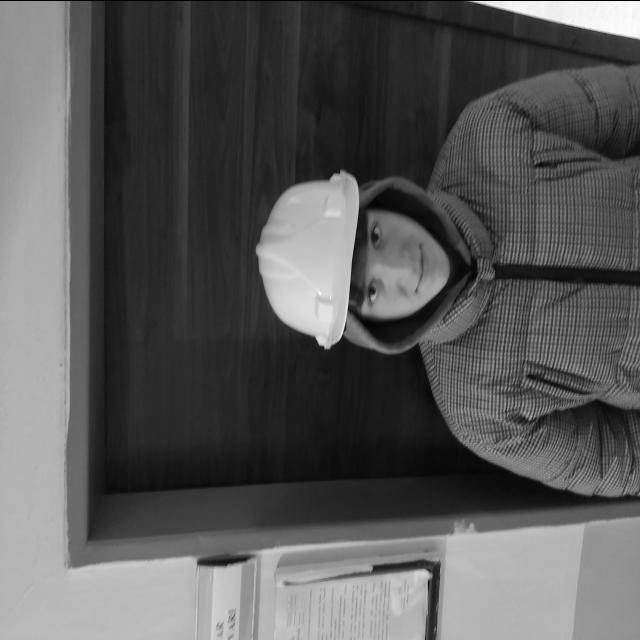construction helmet: (257, 169, 362, 348)
